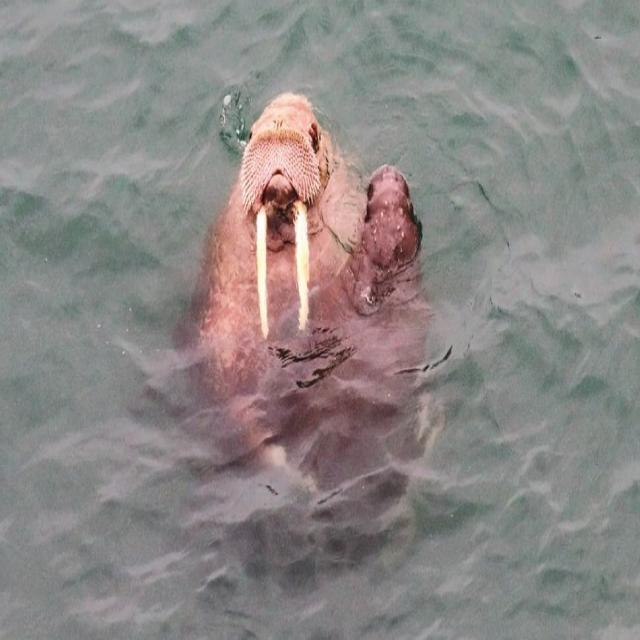walrus: (194, 69, 430, 412)
